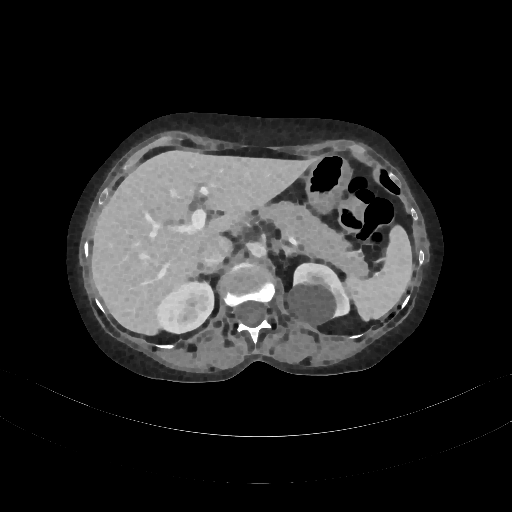Lesion: (281, 281, 338, 329)
